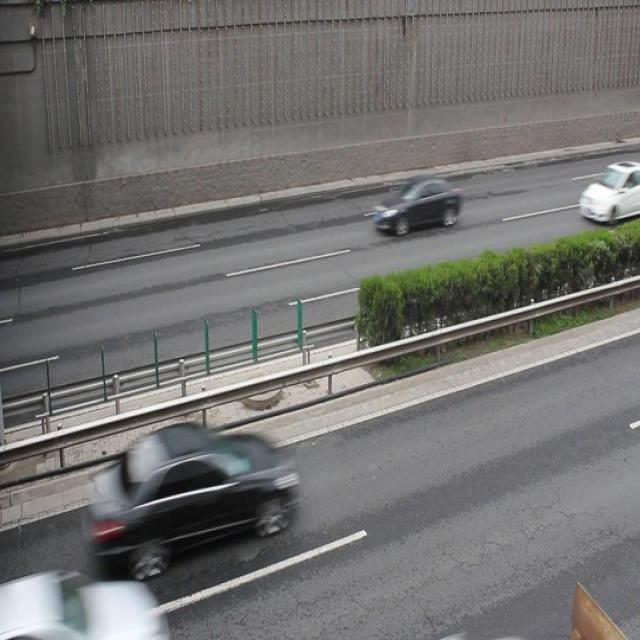car: (92, 420, 299, 570), (15, 570, 164, 640), (374, 175, 462, 235), (576, 160, 640, 225)
